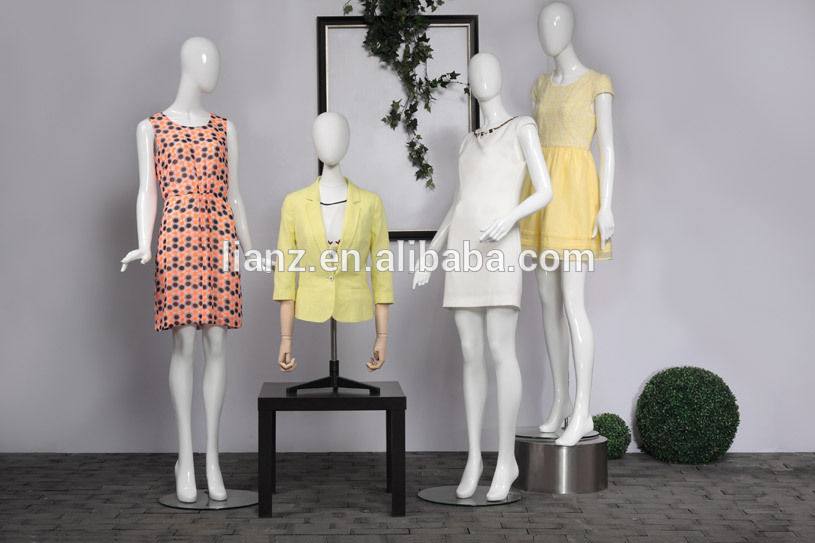person-like: (115, 30, 275, 507), (406, 48, 557, 506), (517, 1, 623, 451), (271, 107, 398, 378)
